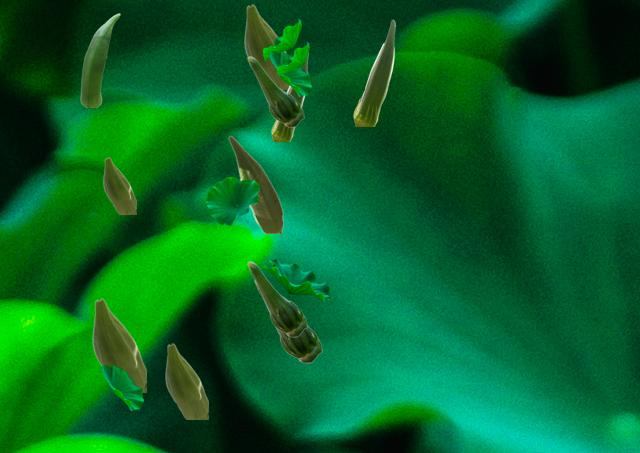okra: (254, 281, 321, 362), (228, 135, 282, 232), (92, 298, 145, 391), (247, 261, 306, 336), (353, 19, 394, 125), (247, 56, 303, 126), (244, 4, 288, 88), (80, 13, 119, 106), (165, 343, 207, 418), (271, 58, 307, 140), (103, 157, 135, 213)
